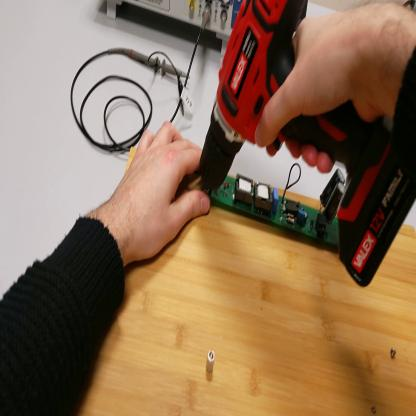electric screwdriver: (202, 2, 416, 291)
hand: (257, 4, 403, 160), (117, 123, 212, 267)
high voltage board: (203, 162, 347, 248)
oscilloscope: (108, 3, 246, 56)
oscilloscope probe tip: (128, 49, 189, 85)
working area: (74, 146, 416, 416)
